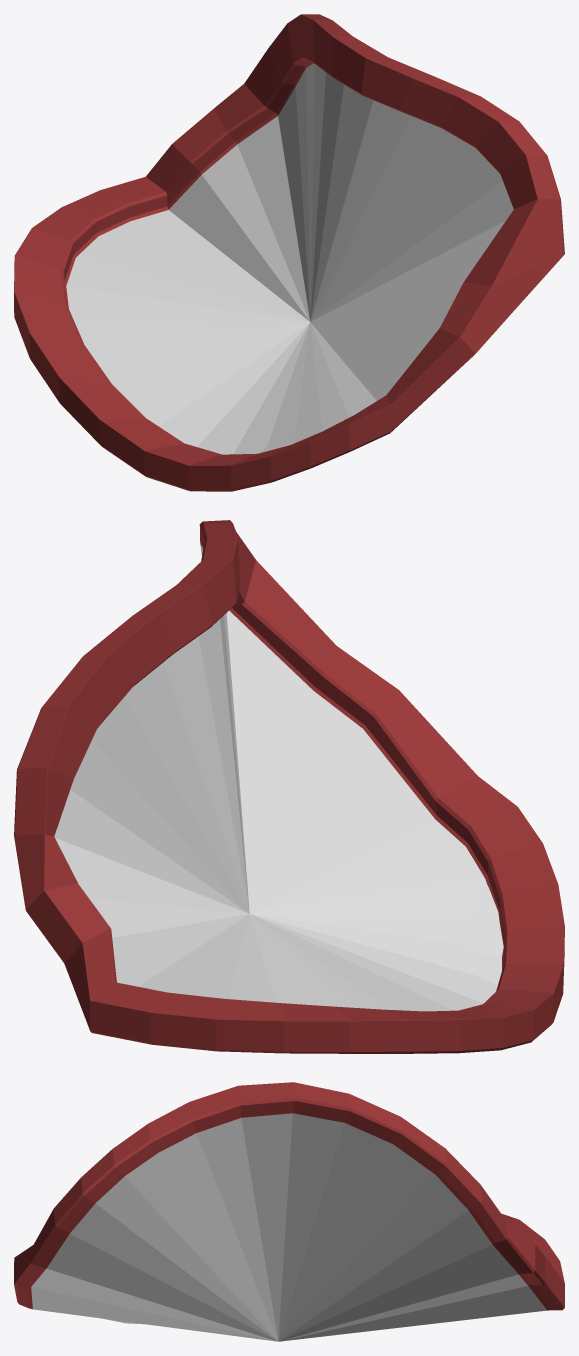
Rendered from 破损标识 (4).fbx.
The picture shows the model from 3 angles, top to bottom: view 1: azimuth 30°, elevation 25°; view 2: azimuth 150°, elevation 25°; view 3: azimuth 270°, elevation 25°; orthographic projection. The views are drawn at different scales.
Visible parts, largest first — view 1: Cylinder.025; view 2: Cylinder.025; view 3: Cylinder.025.
Part boxes in pixels (x1=…): Cylinder.025: x1=14, y1=14, x2=564, y2=491; Cylinder.025: x1=14, y1=520, x2=564, y2=1053; Cylinder.025: x1=14, y1=1082, x2=564, y2=1341.
Bounding box in the file's own units: 1.49 × 1.35 × 2.01.
